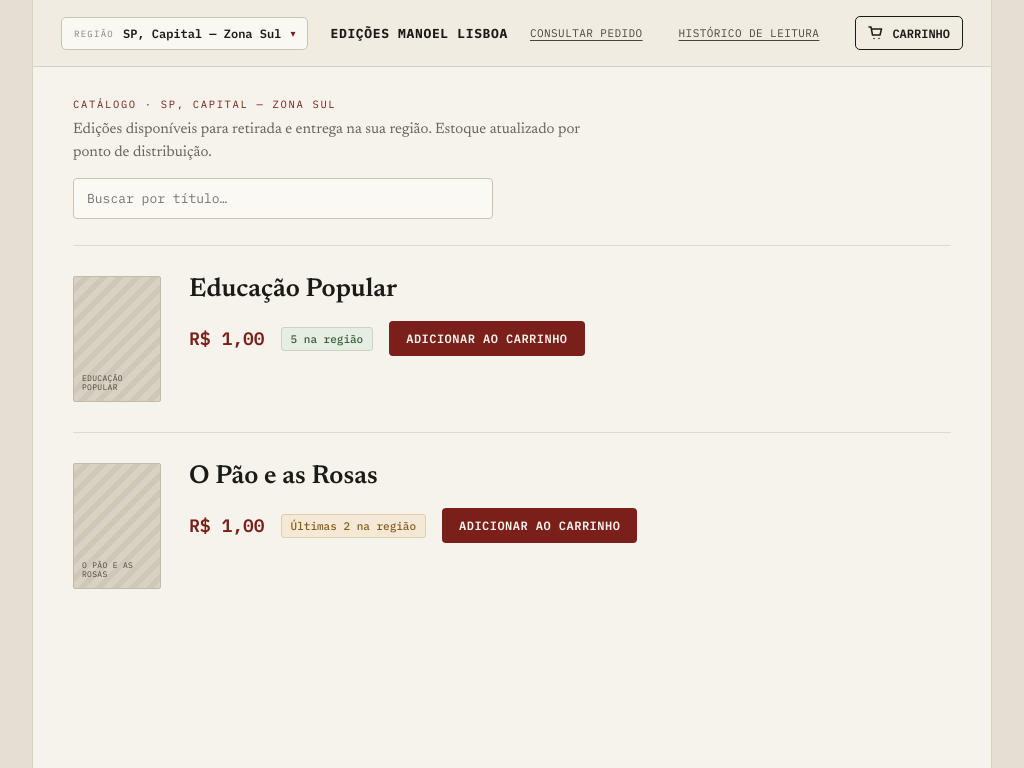
Test case: Catalogo › busca por título filtra o catálogo (sem acento) e tem estado vazio
Expected: the heading "Educação Popular" is shown, x1=189 y1=277 x2=397 y2=303
Note: busca sem acento acha título acentuado
Type "educacao" into the search field with placeholder "Buscar por título…".
click(283, 198); type("educacao")  # box x1=73 y1=178 x2=493 y2=219
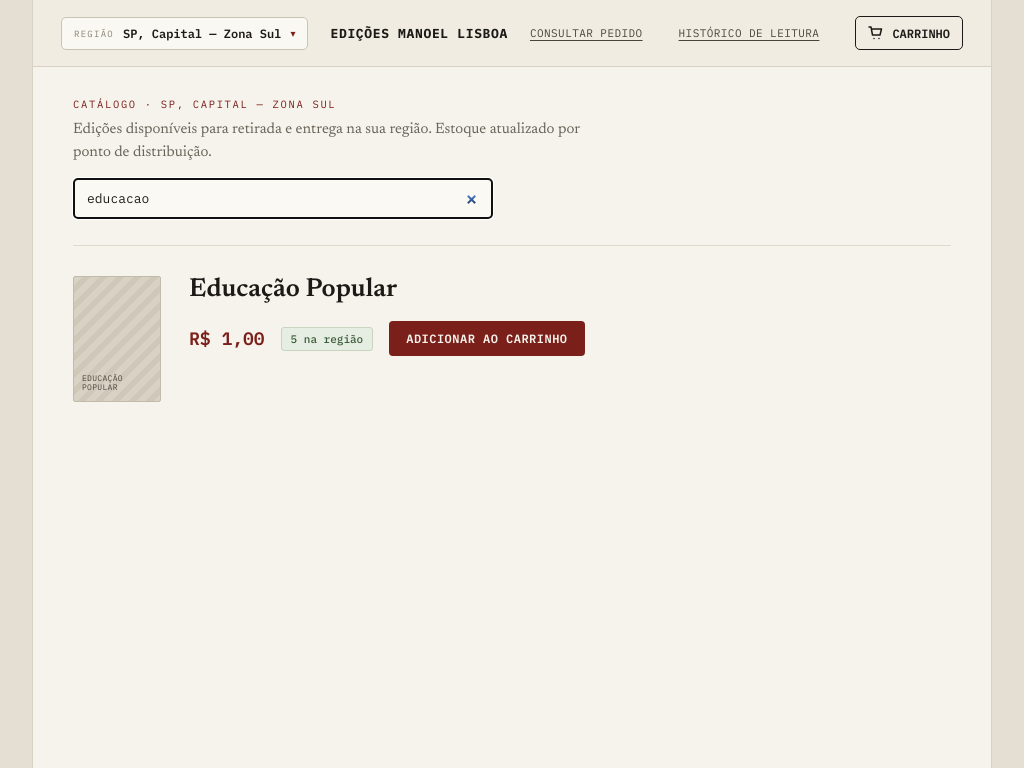
Expected: the heading "Educação Popular" is shown, x1=189 y1=277 x2=397 y2=303
Now the text "O Pão e as Rosas" is gone
Note: sem resultado: estado vazio da busca
Replace the text in the search field with placeholder "Buscar por título…" with "zzz" at (283, 198), box x1=73 y1=178 x2=493 y2=219
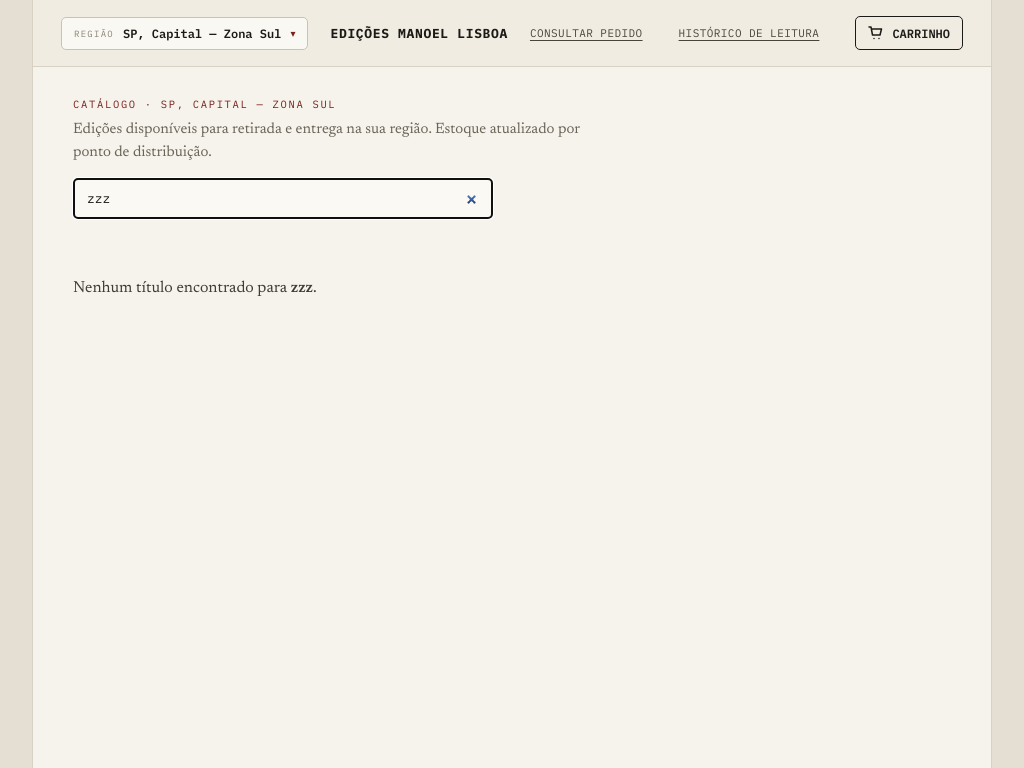
Now the text "Nenhum título encontrado para zzz." is shown, box x1=73 y1=280 x2=317 y2=296
